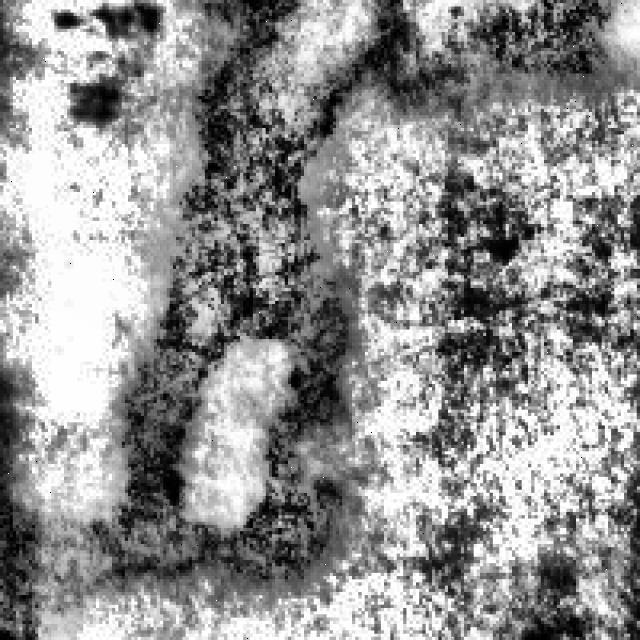Scratches: (112, 16, 419, 605), (448, 0, 640, 90), (3, 426, 83, 636)
